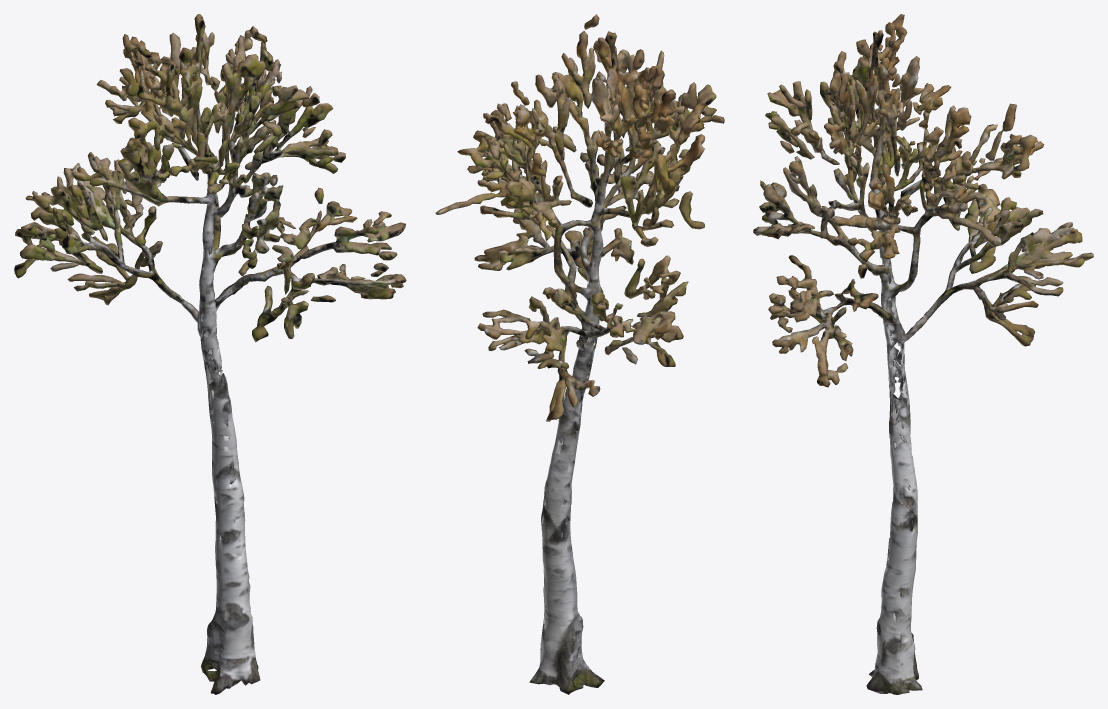
Rendered from AI_PaperBirch05.fbx.
3 views of the same model, side by side, from view 1: azimuth 30°, elevation 25°; view 2: azimuth 150°, elevation 25°; view 3: azimuth 270°, elevation 25° (orthographic). The views are drawn at different scales.
Parts seen in each view (by area): view 1: Mesh1.0; view 2: Mesh1.0; view 3: Mesh1.0.
Boxes of the visible parts, x1,y1,x2,y2 form: Mesh1.0: (14, 14, 406, 694); Mesh1.0: (435, 14, 724, 694); Mesh1.0: (753, 14, 1093, 694).
Size of the model in its own units: 90.52 by 200 by 96.09.
1 material, 1 textured.
